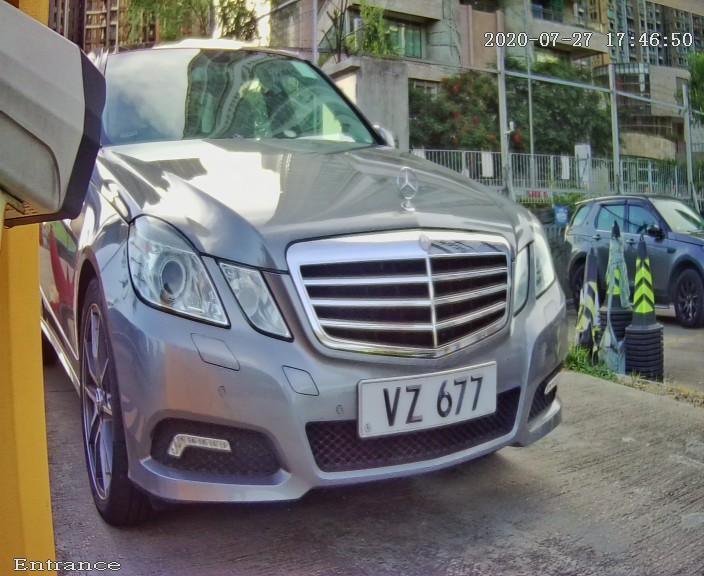privatecar: (32, 13, 610, 543)
